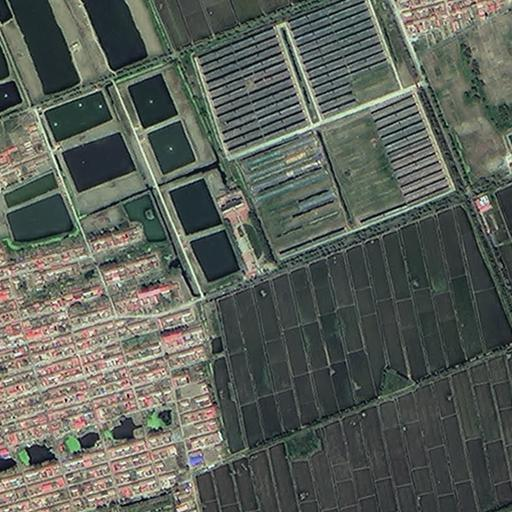school: (213, 184, 279, 279)
